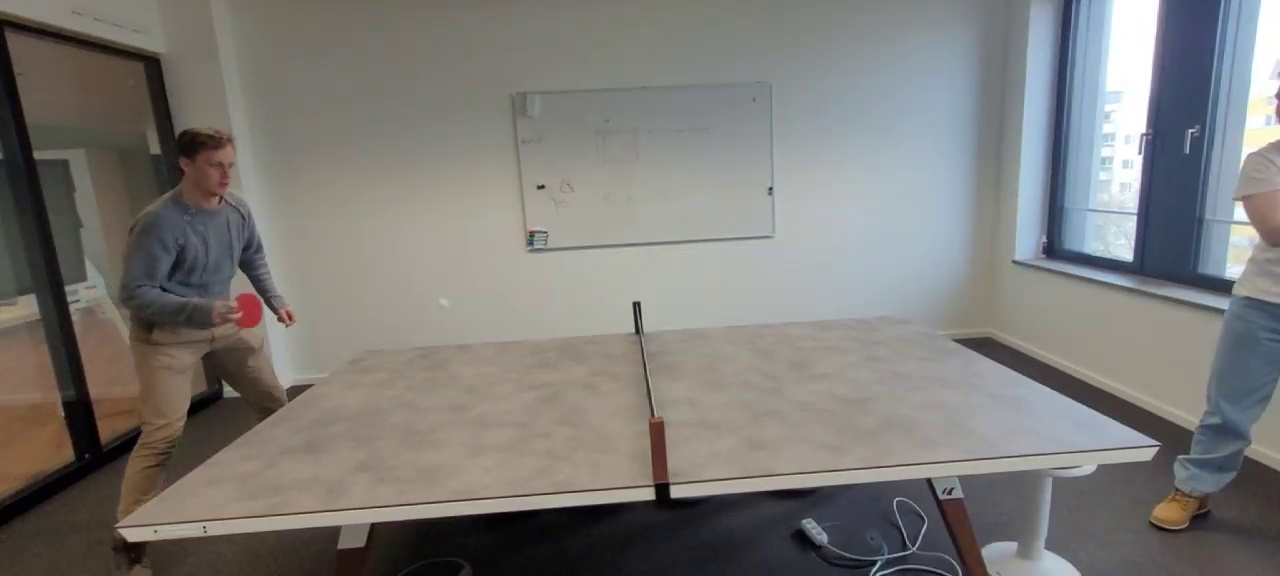1: (218, 292, 261, 328)
2: (438, 296, 449, 308)
ttplatte: (115, 314, 1159, 526)
